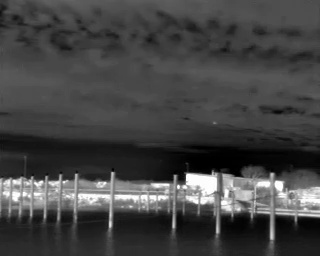BIRD: (211, 118, 218, 126)
